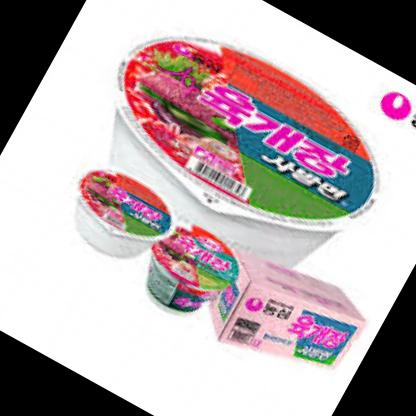Ramen: (65, 2, 406, 307), (124, 204, 254, 334), (52, 155, 186, 279)
